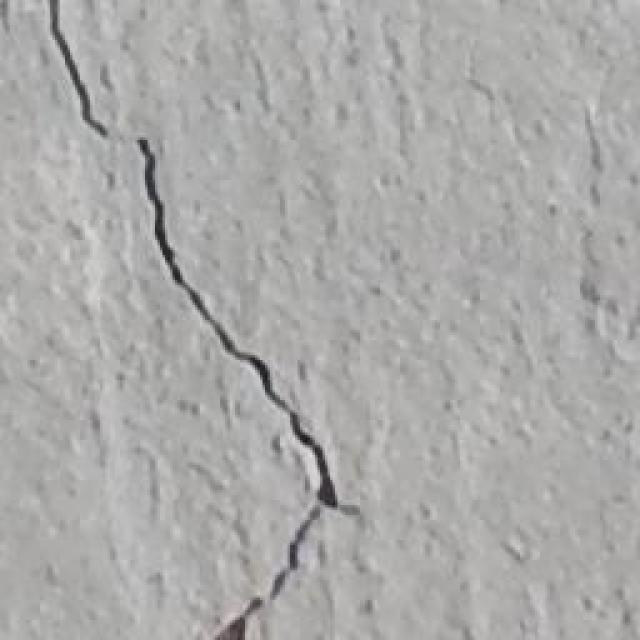concrete-crack: (138, 135, 368, 640), (50, 0, 110, 140)
